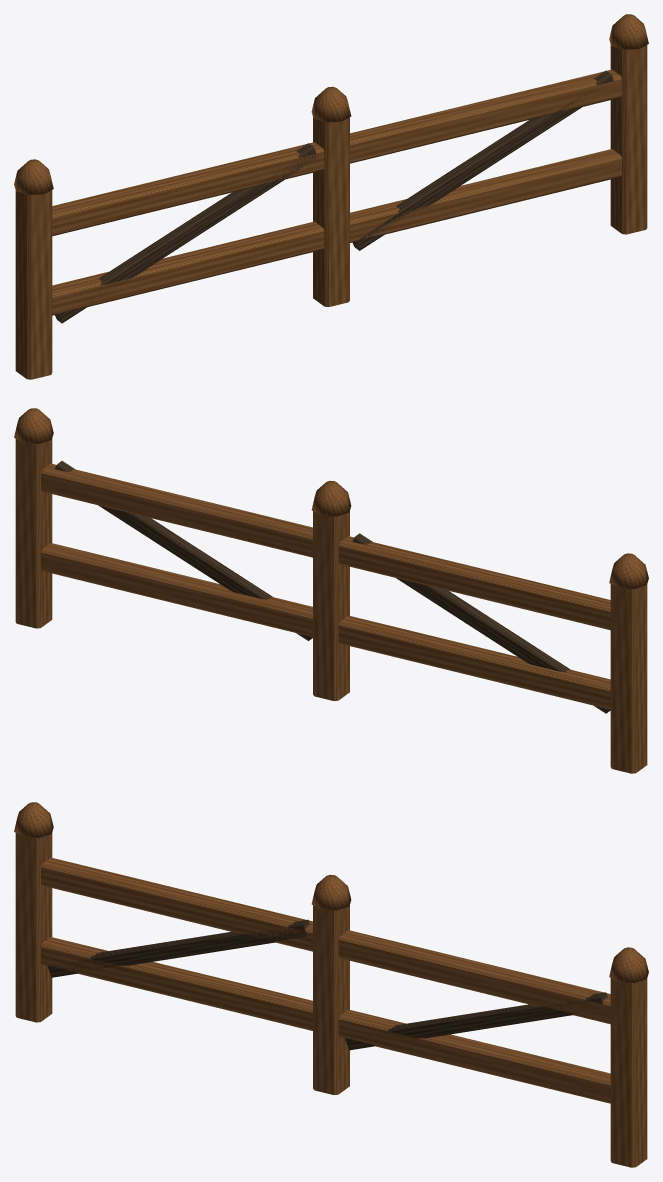
File: orchard_fence.glb
The picture shows the model from 3 angles, top to bottom: view 1: azimuth 30°, elevation 25°; view 2: azimuth 150°, elevation 25°; view 3: azimuth 330°, elevation 25°; orthographic projection.
Visible parts, largest first — view 1: orchard_fence_Joinery; view 2: orchard_fence_Joinery; view 3: orchard_fence_Joinery.
Part boxes in pixels (x1,y1,x2,y2): orchard_fence_Joinery: (14,14,648,379); orchard_fence_Joinery: (14,408,648,773); orchard_fence_Joinery: (14,802,648,1167).
Size of the model in its own units: 4.24 by 1.35 by 0.24.
Materials: 1 (1 with a texture image).
